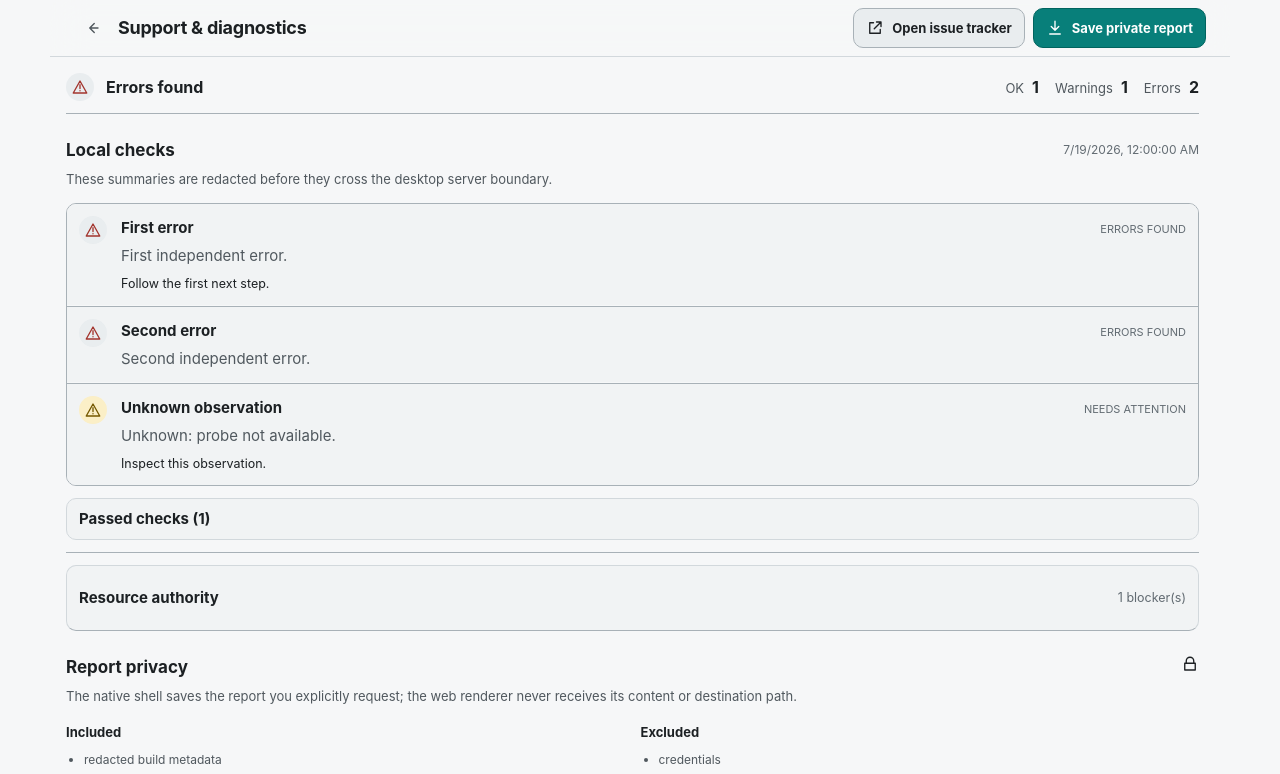
Test case: prioritizes errors and warnings before optional healthy and recovery facts without changing export privacy
expect the heading "Errors found" is shown: met, box [106,75,203,99]
expect the text "Unknown: probe not available." is shown: met, box [121,426,336,445]
Click the heading "Passed checks (1)" at {"x": 145, "y": 518}, box [79,509,210,528]
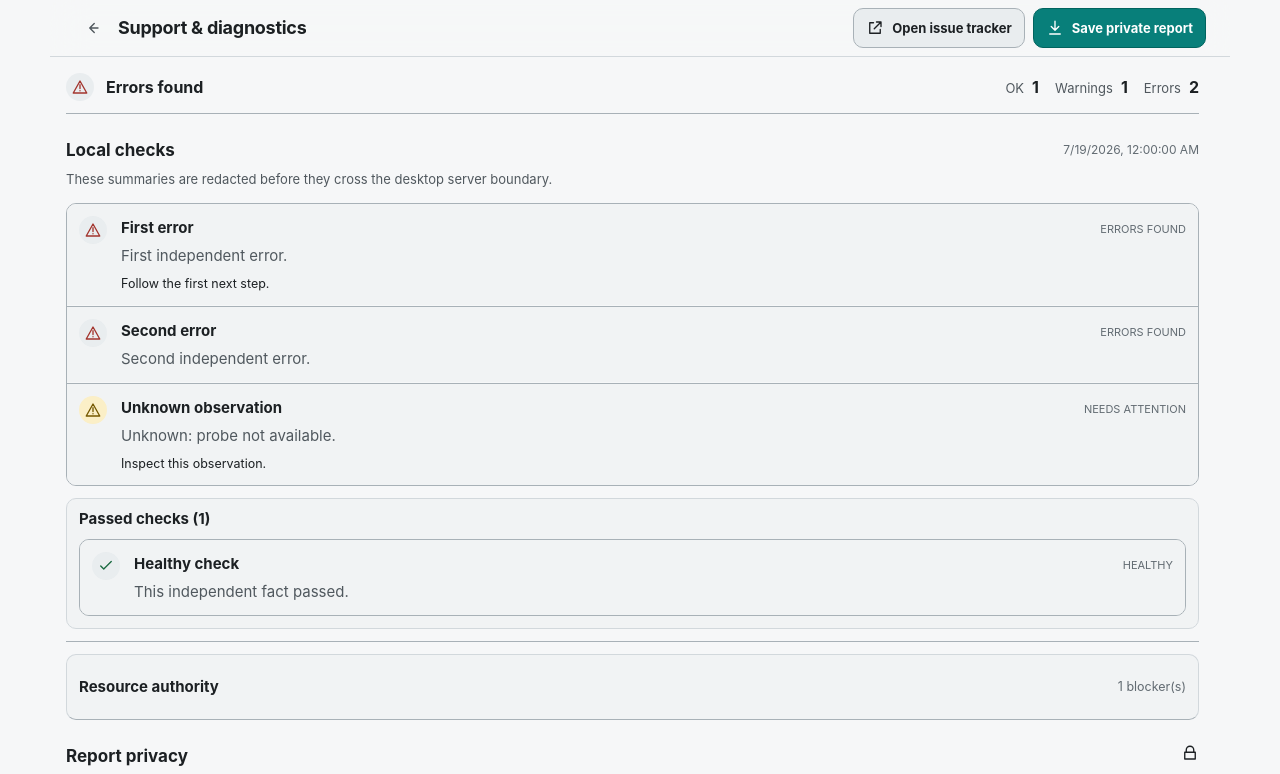
Click the text "Resource authority" at {"x": 149, "y": 687}, box [79,675,219,699]
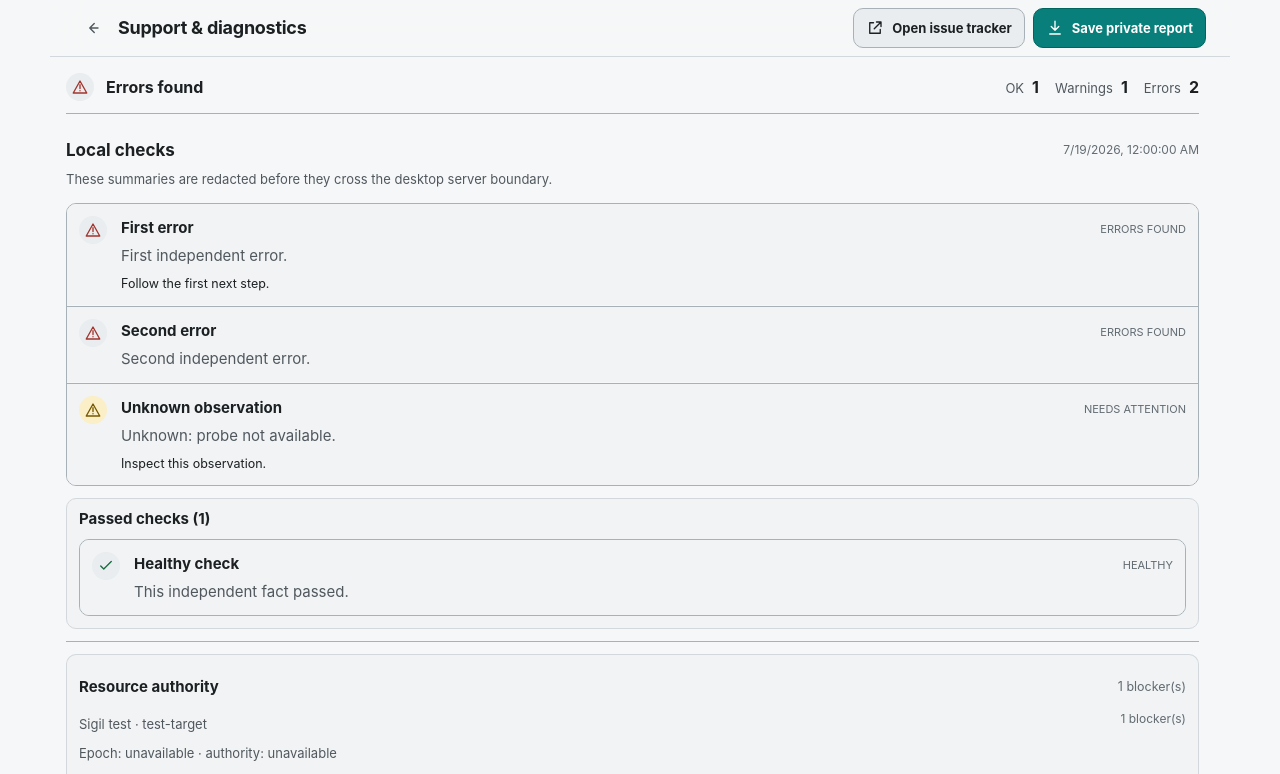
expect the text "missing_readiness_probe · desktop" shows "unavailable": met, box [79,745,337,761]
Click the button "Save private report" at {"x": 1119, "y": 28}, box [1033,8,1206,48]
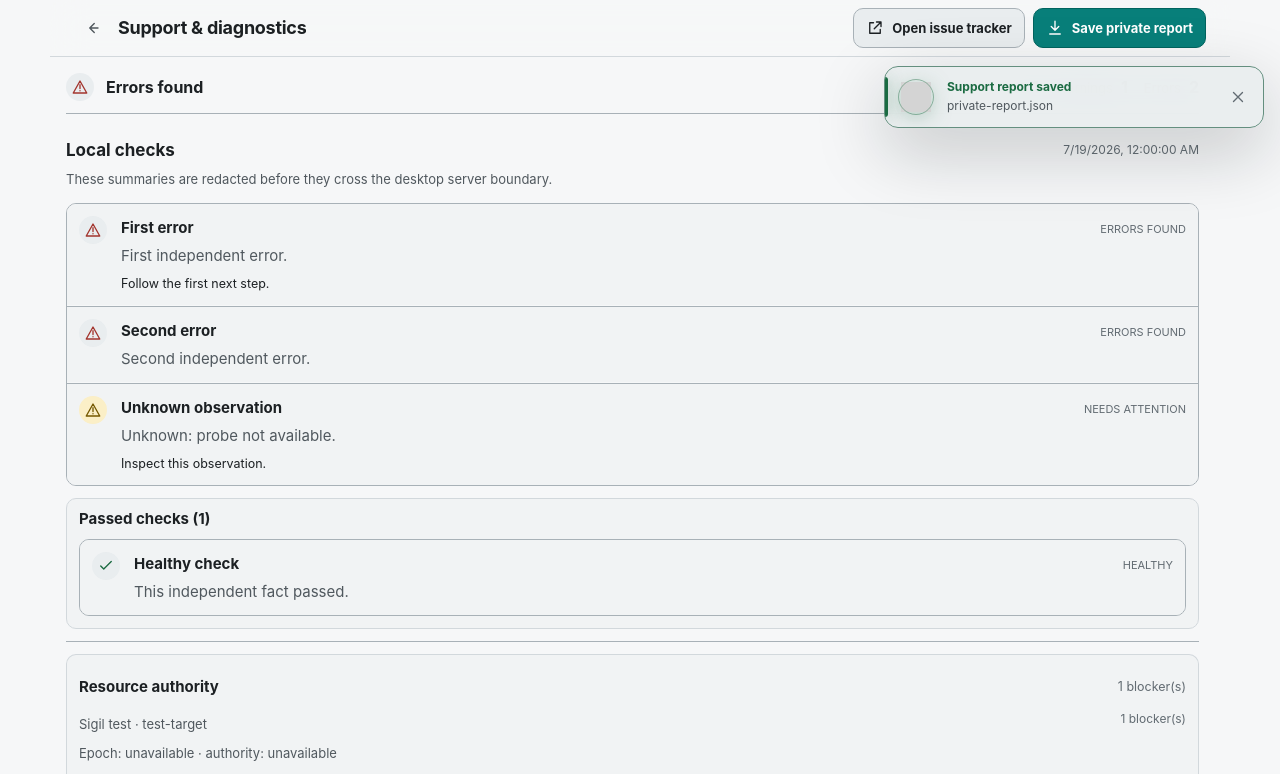
expect the text "Support report saved" is shown: met, box [947,79,1071,94]
